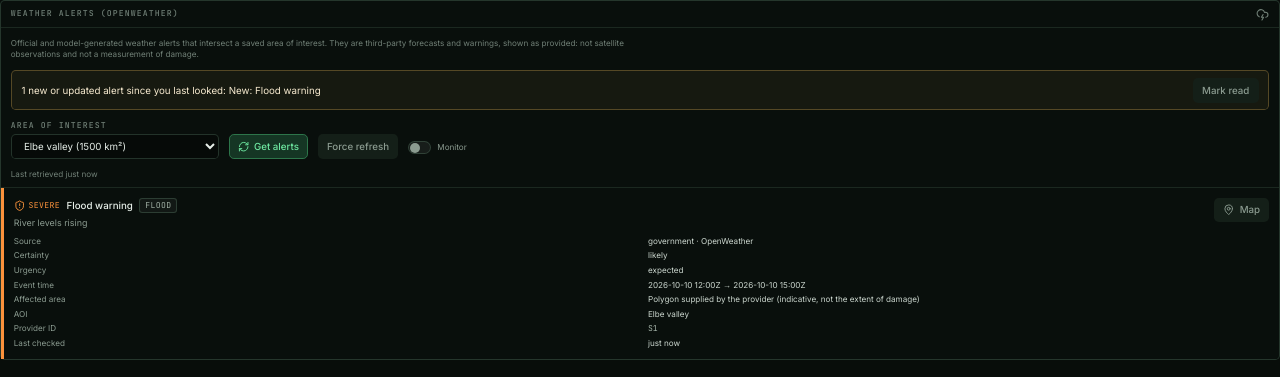
Test: WeatherAlertsSection › new/updated alerts are announced and can be marked read
The image size is (1280, 377).
Check: the text "New: Flood warning" is shown, box [229,85,321,96]
Click the button "Mark read" at (1226, 90), box [1193,78,1258,103]
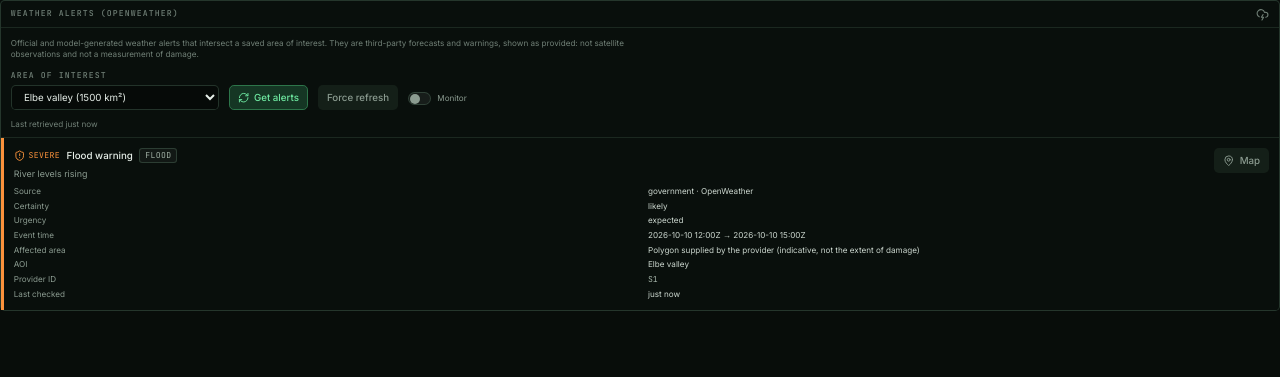
Check: the text "since you last looked" is gone
